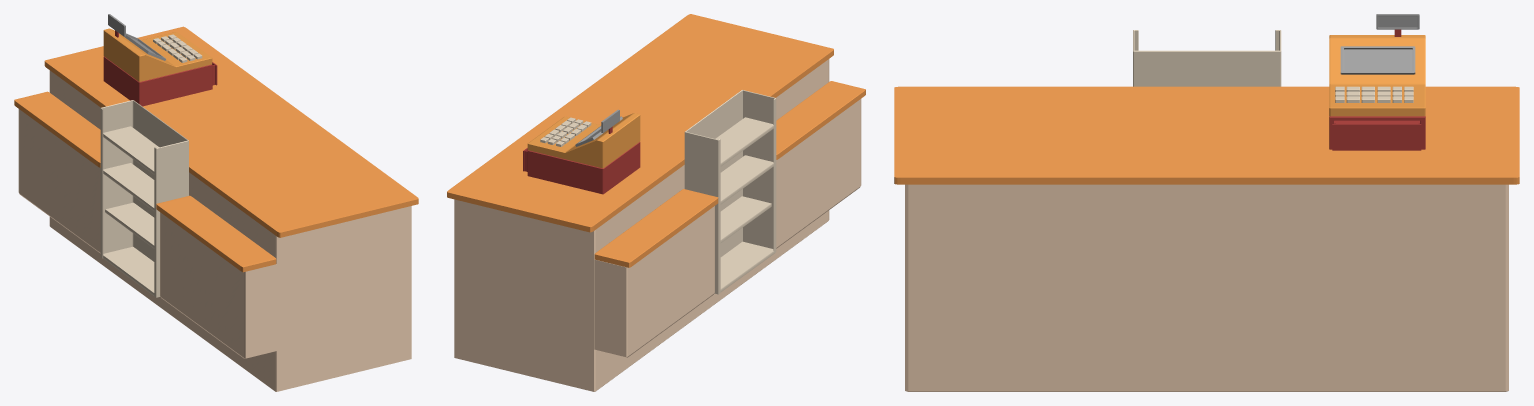
File: CashRegister.fbx
The picture shows the model from 3 angles, left to right: view 1: azimuth 30°, elevation 25°; view 2: azimuth 150°, elevation 25°; view 3: azimuth 270°, elevation 25°; orthographic projection. The views are drawn at different scales.
Visible parts, largest first — view 1: Cube, Cube.001, Cube.005, Room, Cube.002, Cube.007, Cube.006, Cube.003, Cube.004, Room.004, Room.001, Room.002 (+2 smaller); view 2: Cube, Cube.001, Cube.002, Room, Cube.005, Cube.003, Cube.006, Cube.007, Cube.004, Room.004, Room.001, Room.002 (+2 smaller); view 3: Cube, Cube.001, Room, Cube.006, Cube.008, Cube.013, Cube.029, Cube.004, Cube.012.
Boxes of the visible parts, <box> form: Cube: <box>49,70,411,391</box>; Cube.001: <box>44,26,418,237</box>; Cube.005: <box>160,212,276,358</box>; Room: <box>100,100,188,297</box>; Cube.002: <box>18,109,100,253</box>; Cube.007: <box>156,195,276,272</box>; Cube.006: <box>103,28,212,81</box>; Cube.003: <box>14,91,100,167</box>; Cube.004: <box>103,56,212,106</box>; Room.004: <box>103,246,154,295</box>; Room.001: <box>103,126,159,174</box>; Room.002: <box>103,163,154,210</box>; Cube: <box>454,59,829,391</box>; Cube.001: <box>447,14,833,232</box>; Cube.002: <box>594,206,714,357</box>; Room: <box>684,90,776,294</box>; Cube.005: <box>776,99,861,248</box>; Cube.003: <box>594,189,718,267</box>; Cube.006: <box>527,113,640,168</box>; Cube.007: <box>776,81,865,159</box>; Cube.004: <box>527,142,640,194</box>; Room.004: <box>720,241,774,291</box>; Room.001: <box>715,117,773,166</box>; Room.002: <box>720,155,773,204</box>; Cube: <box>905,184,1508,391</box>; Cube.001: <box>894,86,1519,184</box>; Room: <box>1133,30,1281,86</box>; Cube.006: <box>1329,35,1425,116</box>; Cube.008: <box>1332,120,1421,150</box>; Cube.013: <box>1340,46,1415,74</box>; Cube.029: <box>1335,86,1413,102</box>; Cube.004: <box>1329,116,1425,149</box>; Cube.012: <box>1376,14,1419,29</box>.
Size of the model in its own units: 184 by 233 by 430.
